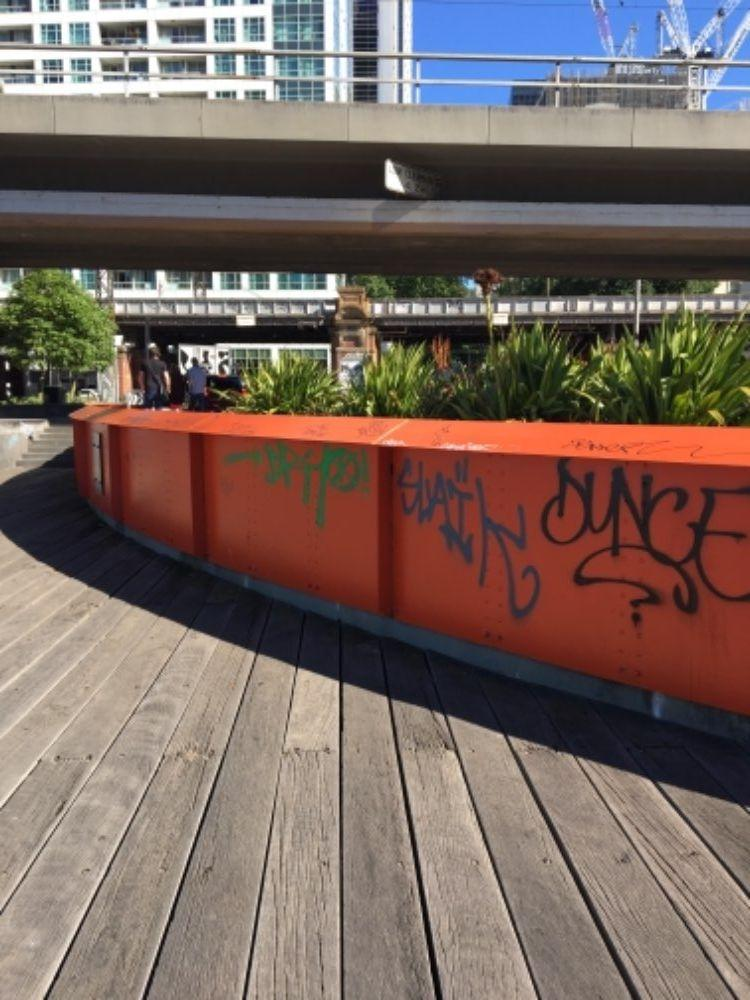graffiti: (545, 459, 750, 637), (393, 453, 549, 621), (231, 443, 378, 525)
